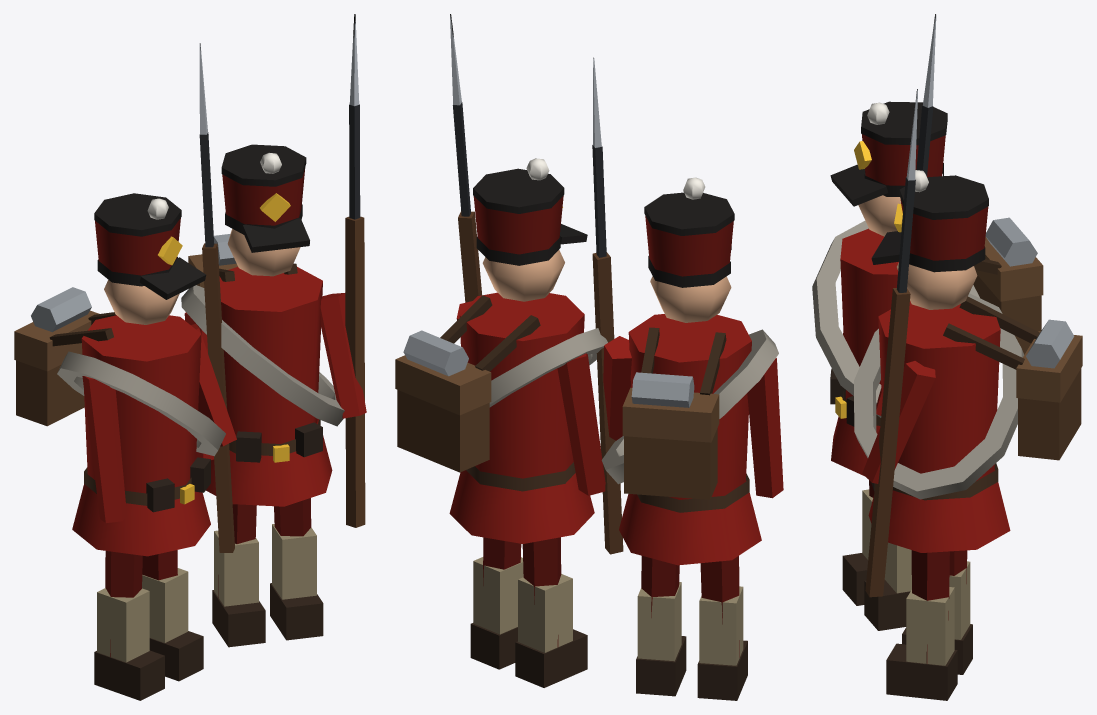
Rendered from sentry_dl5_red.glb.
3 renders of one model, left to right at view 1: azimuth 30°, elevation 25°; view 2: azimuth 150°, elevation 25°; view 3: azimuth 270°, elevation 25°, orthographic. The views are drawn at different scales.
Visible parts, largest first — view 1: sentry_dl5_red; view 2: sentry_dl5_red; view 3: sentry_dl5_red.
Part boxes in pixels (bbox=[...]): sentry_dl5_red: bbox=[14, 14, 366, 700]; sentry_dl5_red: bbox=[395, 14, 783, 700]; sentry_dl5_red: bbox=[812, 14, 1082, 700].
Bounding box in the file's own units: 0.2701 × 0.5225 × 0.2037.
Materials: 1 (1 with a texture image).
